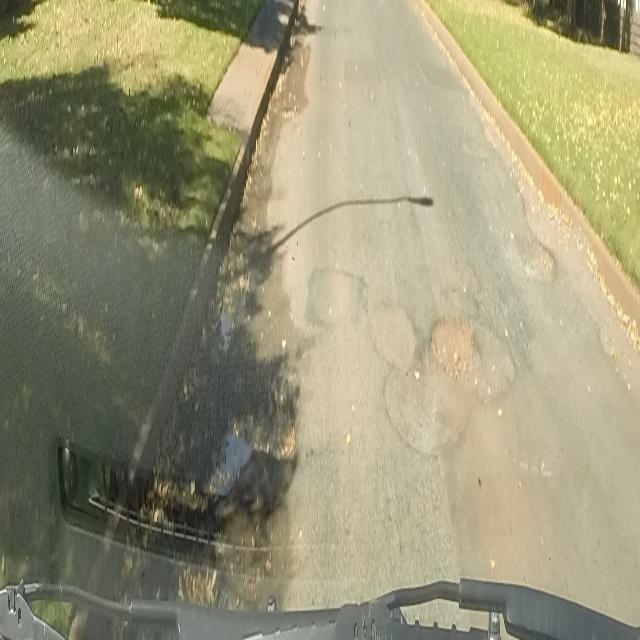pothole: (205, 385, 296, 518), (429, 308, 471, 393)
